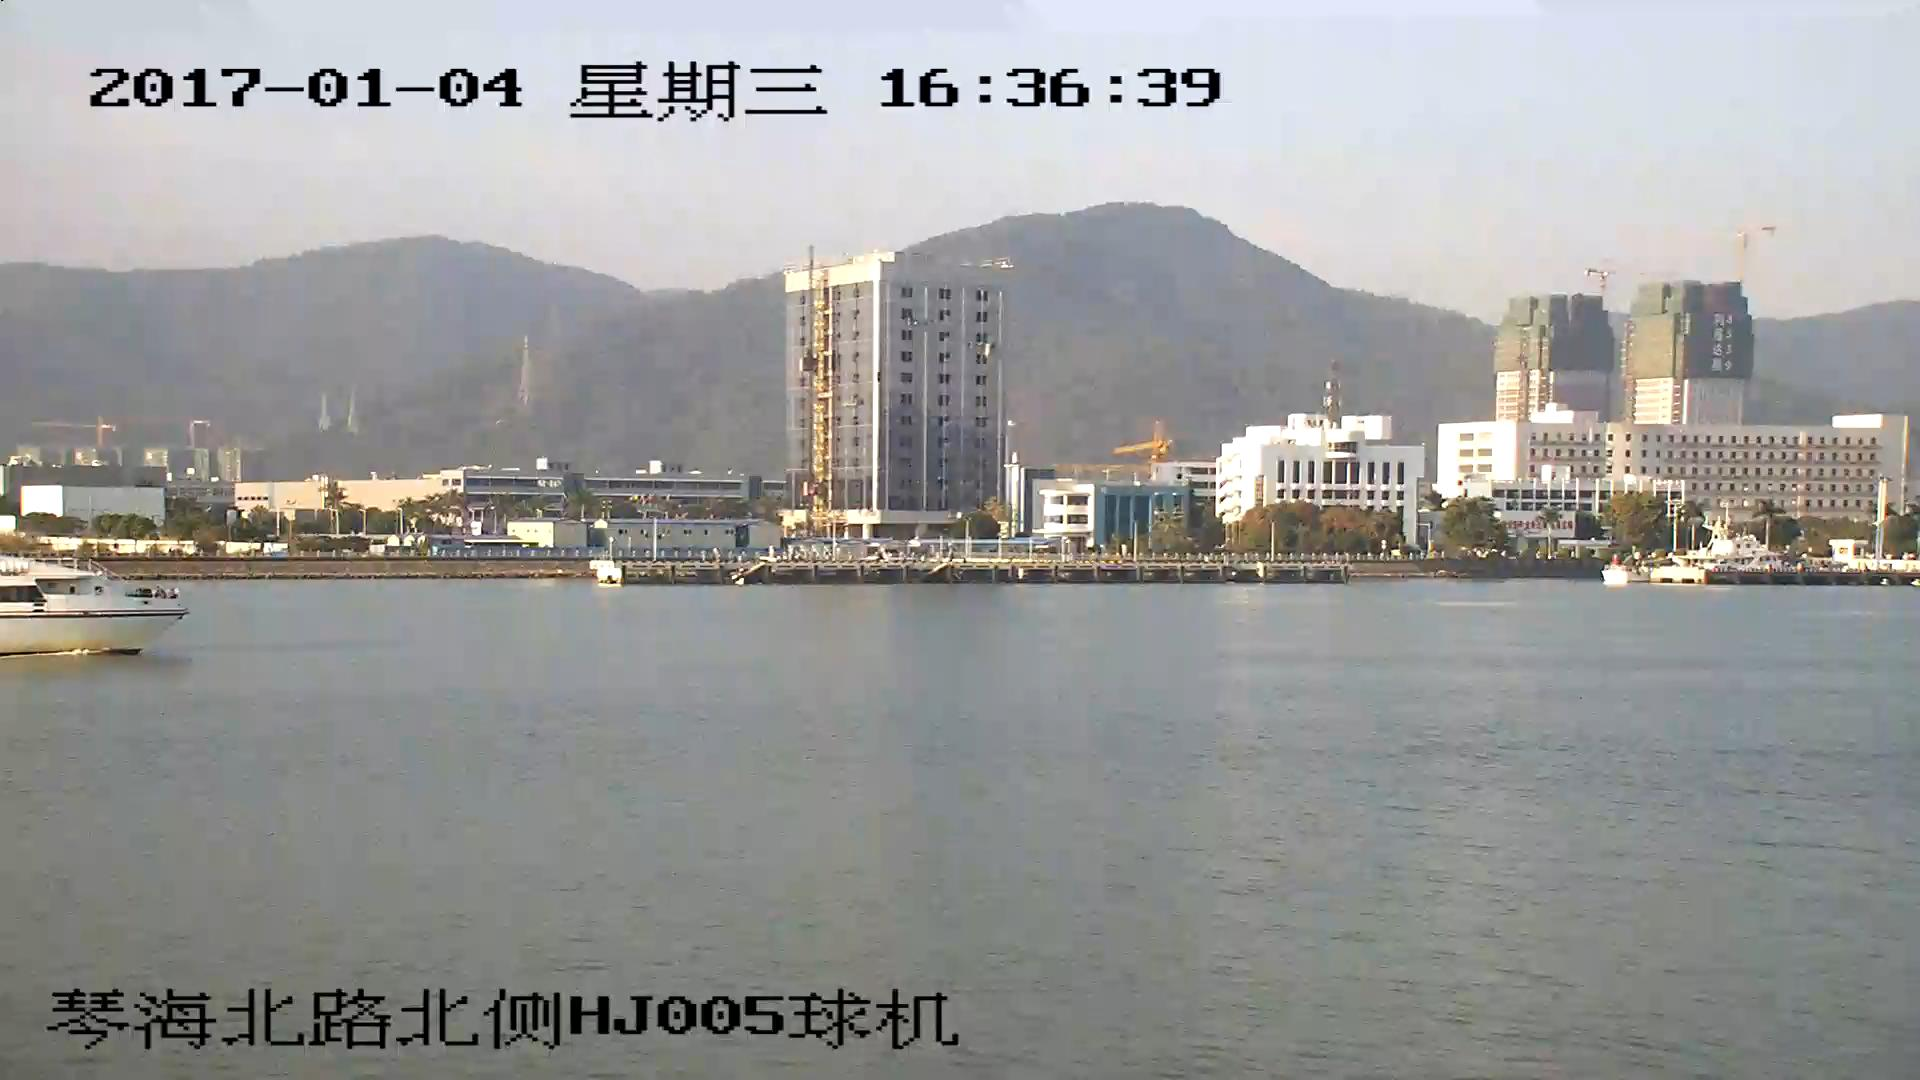passenger ship: (1, 556, 188, 658)
